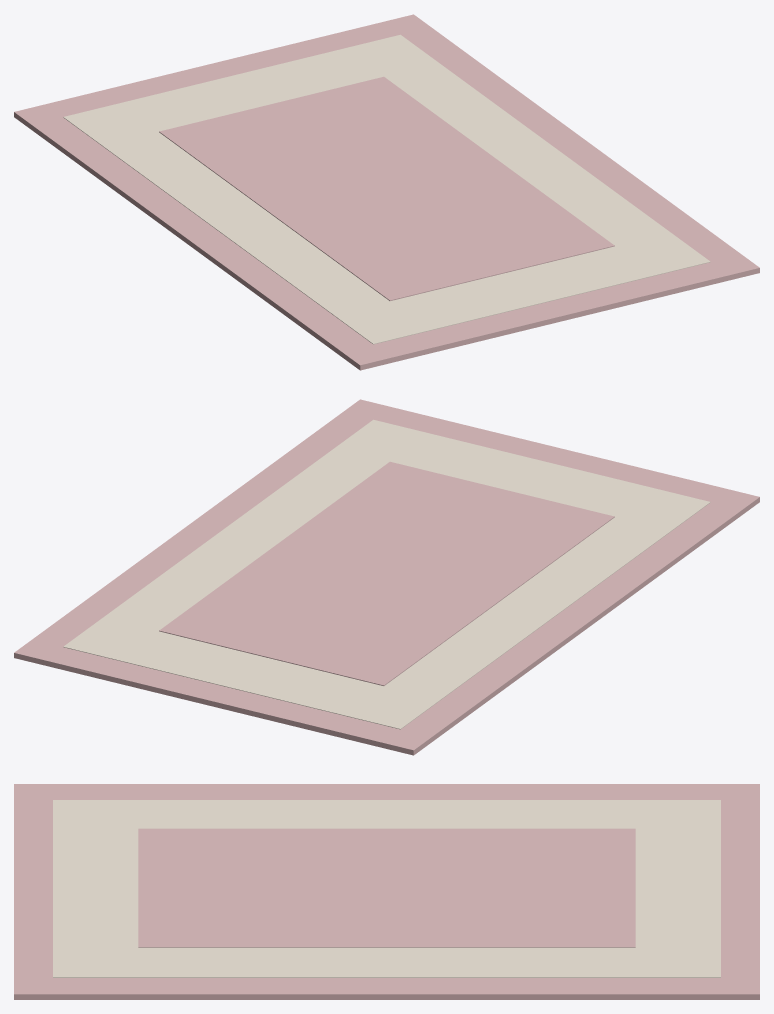
File: SM_Rug_01.fbx
The picture shows the model from 3 angles, top to bottom: view 1: azimuth 30°, elevation 25°; view 2: azimuth 150°, elevation 25°; view 3: azimuth 270°, elevation 25°; orthographic projection. The views are drawn at different scales.
Parts seen in each view (by area): view 1: Rug_01; view 2: Rug_01; view 3: Rug_01.
Boxes of the visible parts, <box> form: Rug_01: <box>14,14,759,370</box>; Rug_01: <box>14,399,759,755</box>; Rug_01: <box>14,784,759,999</box>.
Bounding box in the file's own units: 160 × 2.5 × 240.
